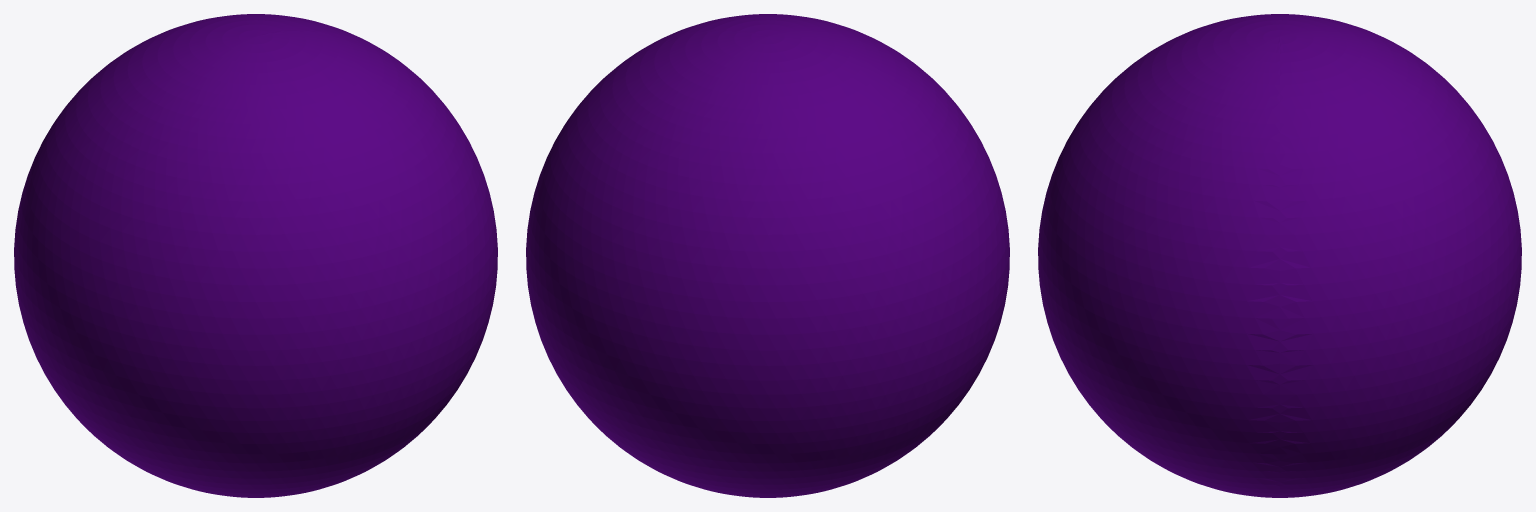
Rendered from pelotaverde.dae.
3 renders of one model, left to right at view 1: azimuth 30°, elevation 25°; view 2: azimuth 150°, elevation 25°; view 3: azimuth 270°, elevation 25°, orthographic.
Visible parts, largest first — view 1: node0; view 2: node0; view 3: node0.
Part boxes in pixels (x1=…): node0: x1=14, y1=14, x2=497, y2=497; node0: x1=526, y1=14, x2=1009, y2=497; node0: x1=1038, y1=14, x2=1521, y2=497.
Bounding box in the file's own units: 0.2227 × 0.2227 × 0.2228.
